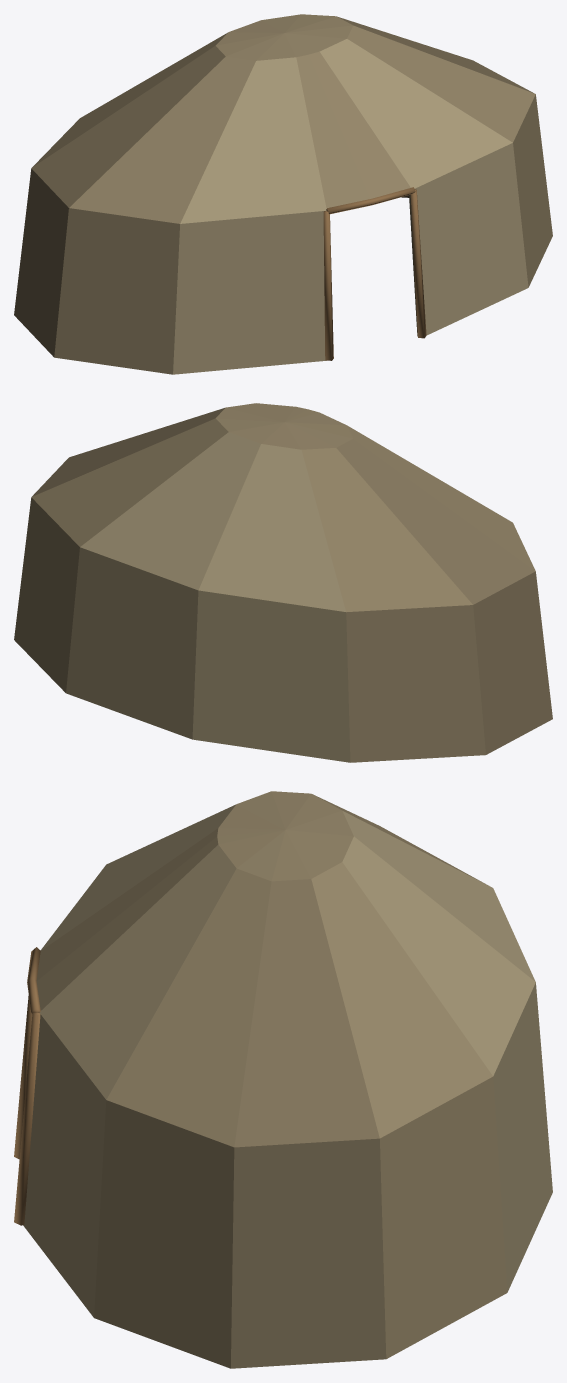
Rendered from oval_thatch_longhouse_lod2.glb.
The picture shows the model from 3 angles, top to bottom: view 1: azimuth 30°, elevation 25°; view 2: azimuth 150°, elevation 25°; view 3: azimuth 270°, elevation 25°; orthographic projection. The views are drawn at different scales.
Parts seen in each view (by area): view 1: oval_thatch_longhouse_lod2; view 2: oval_thatch_longhouse_lod2; view 3: oval_thatch_longhouse_lod2.
Boxes of the visible parts, <box> form: oval_thatch_longhouse_lod2: <box>14,14,552,374</box>; oval_thatch_longhouse_lod2: <box>14,403,552,762</box>; oval_thatch_longhouse_lod2: <box>14,791,552,1368</box>.
Size of the model in its own units: 6.56 by 3.14 by 4.23.
